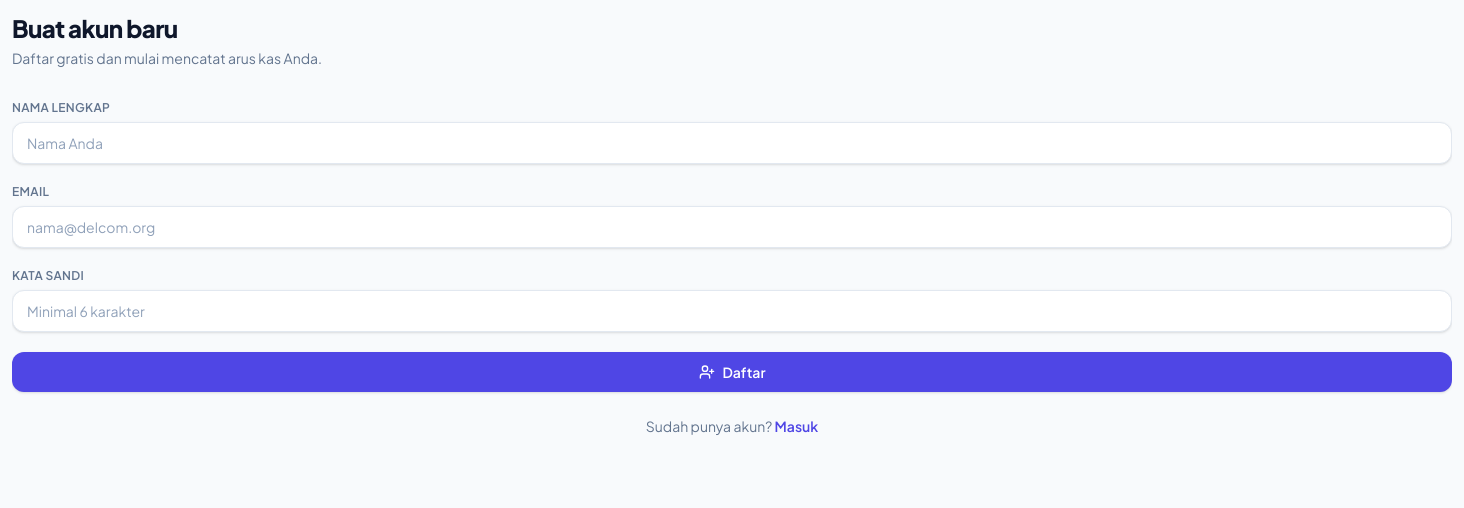
Test: RegisterPage › validasi field kosong dan password pendek
This screenshot has width=1464, height=508.
Submit the form, box [12,100,1452,392]
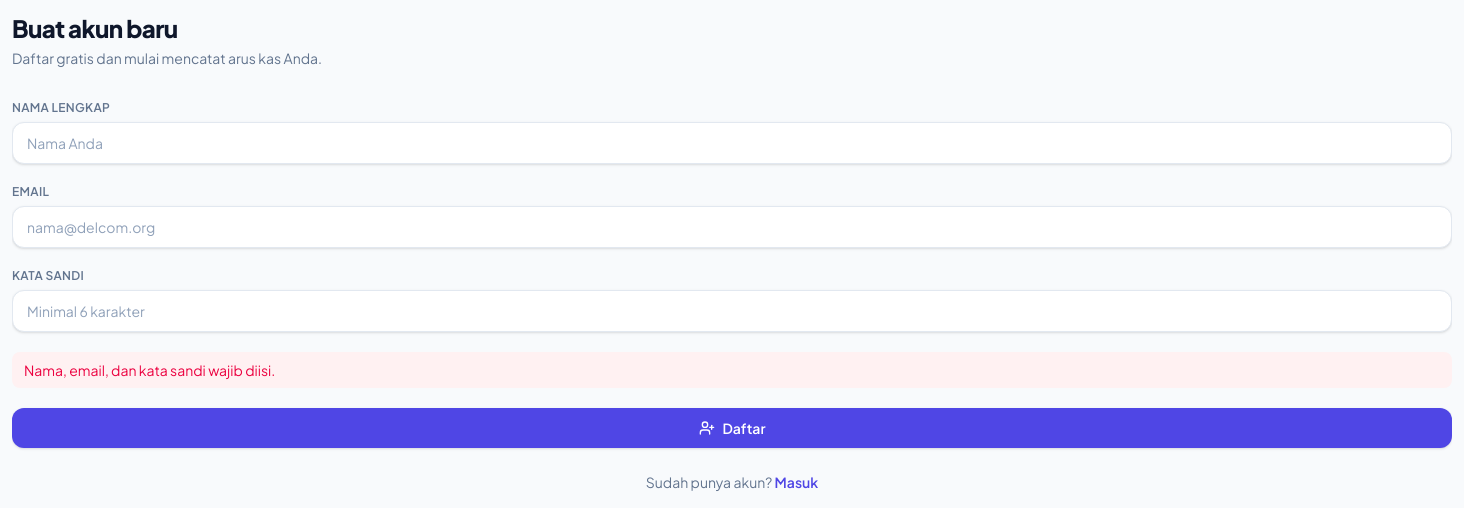
Check: the text "wajib diisi" is shown, box [24,361,275,379]
Type "A" into the field with id "name".
click(732, 143); type("A")  # box [12,122,1452,164]
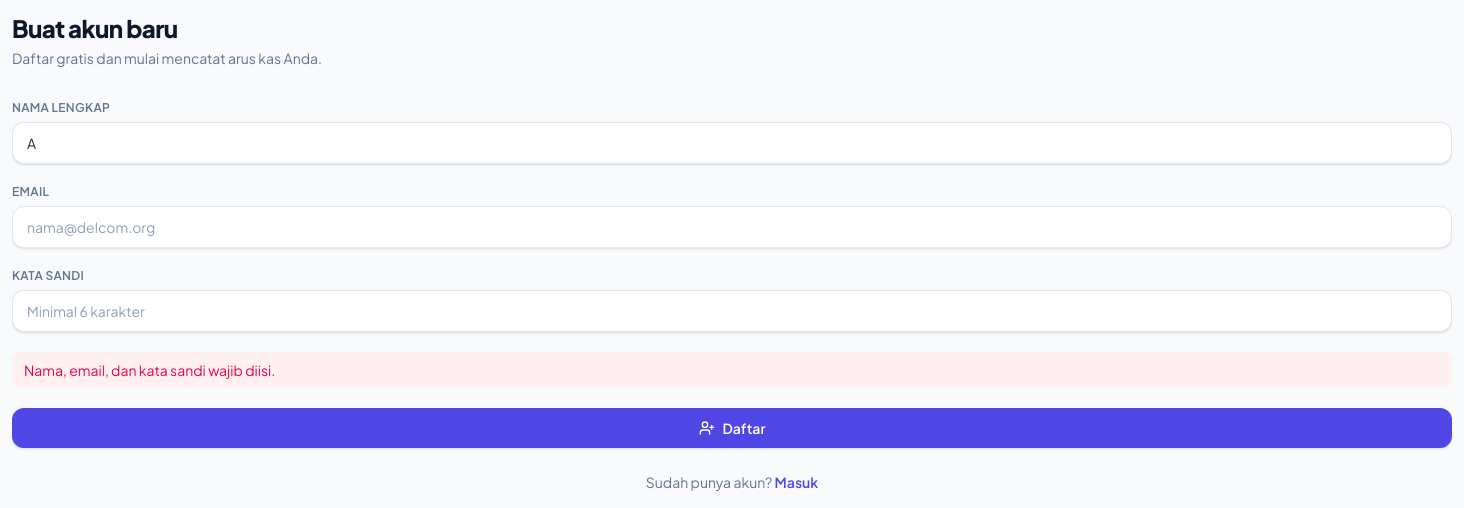
Type "a@b.c" into the field with id "email".
click(732, 227); type("a@b.c")  # box [12,206,1452,248]
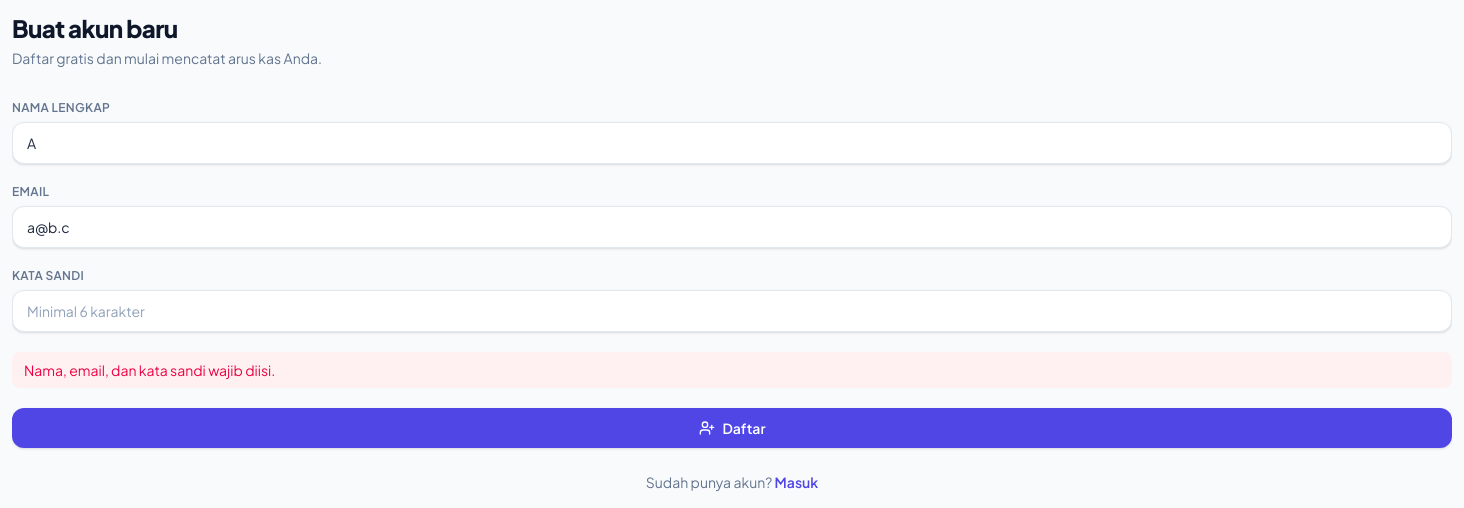
Type "123" into the password field labelled "Kata Sandi".
click(732, 311); type("123")  # box [12,290,1452,332]
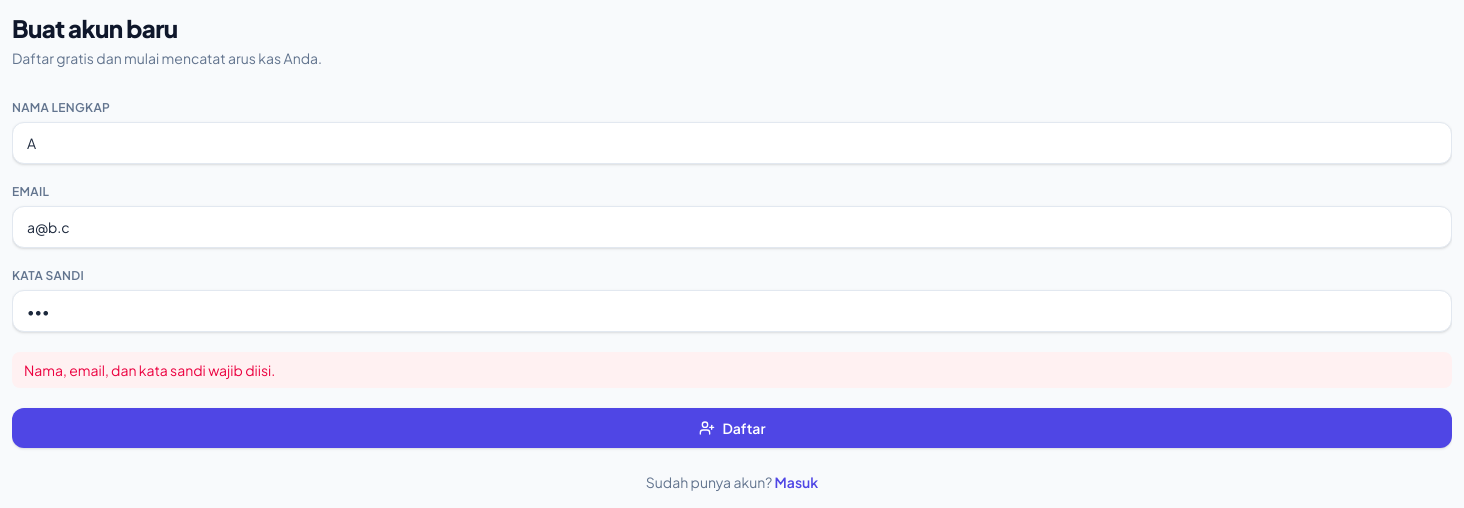
Submit the form
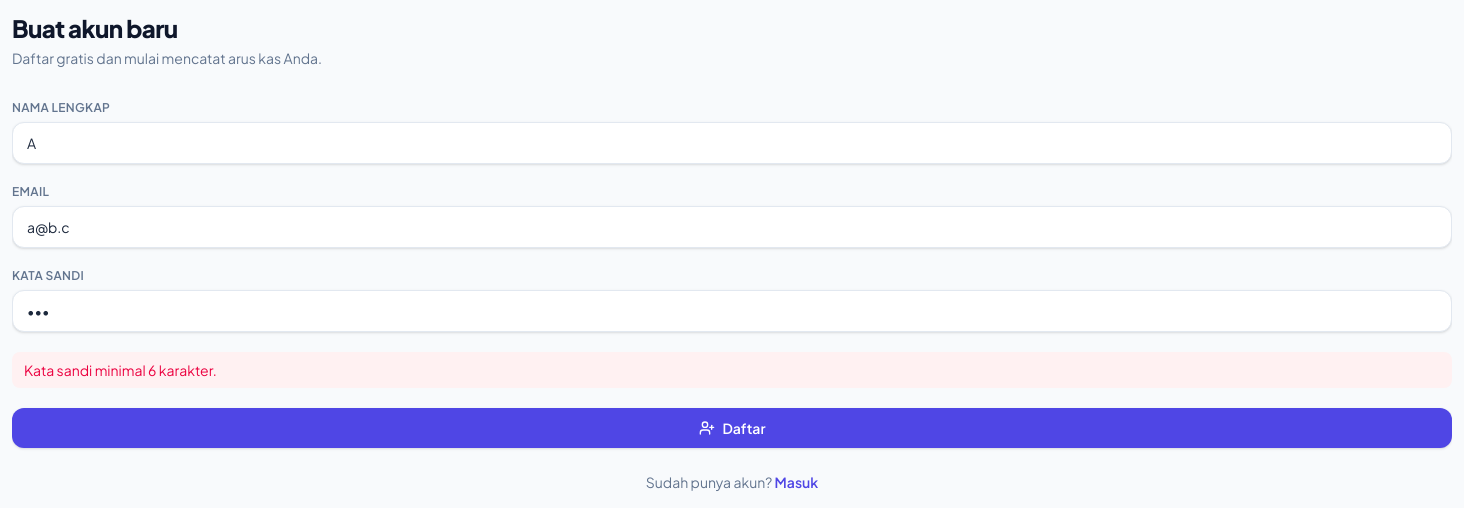
Check: the text "minimal 6 karakter" is shown, box [24,361,217,379]
